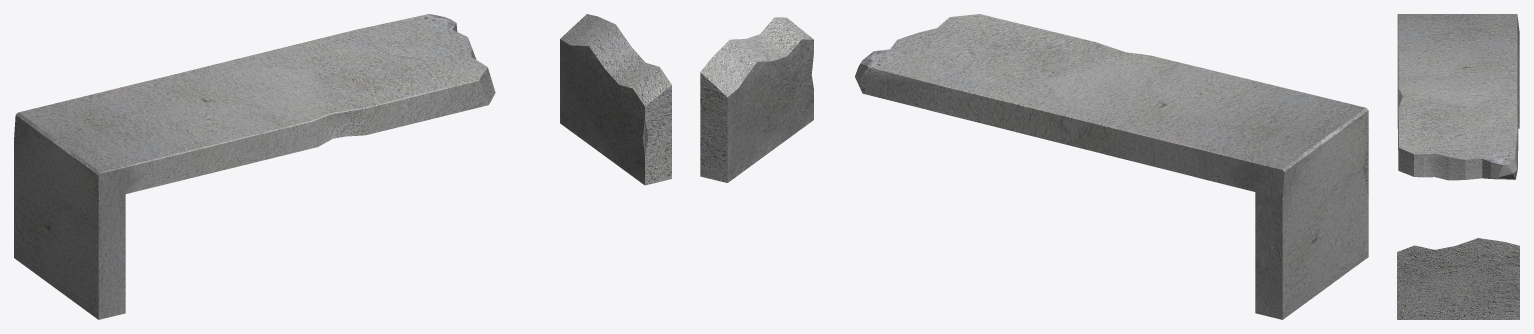
File: bench01.fbx
3 renders of one model, left to right at view 1: azimuth 30°, elevation 25°; view 2: azimuth 150°, elevation 25°; view 3: azimuth 270°, elevation 25°, orthographic. The views are drawn at different scales.
Parts seen in each view (by area): view 1: pCube9; view 2: pCube9; view 3: pCube9.
Boxes of the visible parts, x1,y1,x2,y2 form: pCube9: (14, 14, 671, 319); pCube9: (700, 14, 1368, 319); pCube9: (1397, 14, 1519, 319).
Bounding box in the file's own units: 200 × 48.82 × 51.3.
